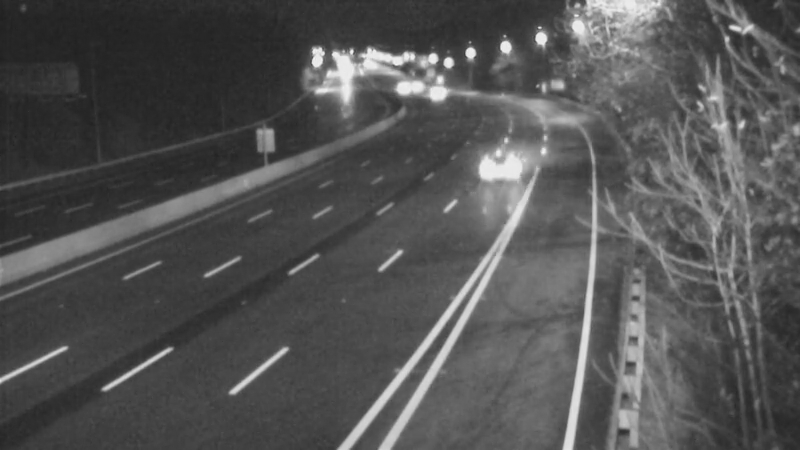vehicle: (461, 119, 541, 199), (389, 61, 439, 111), (373, 61, 423, 111), (414, 70, 464, 120)
